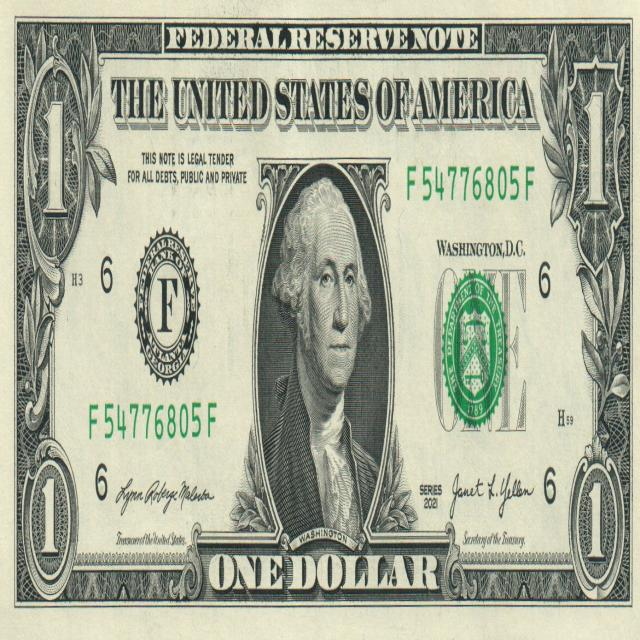SerialNumber: (90, 402, 216, 440), (407, 165, 534, 201)
